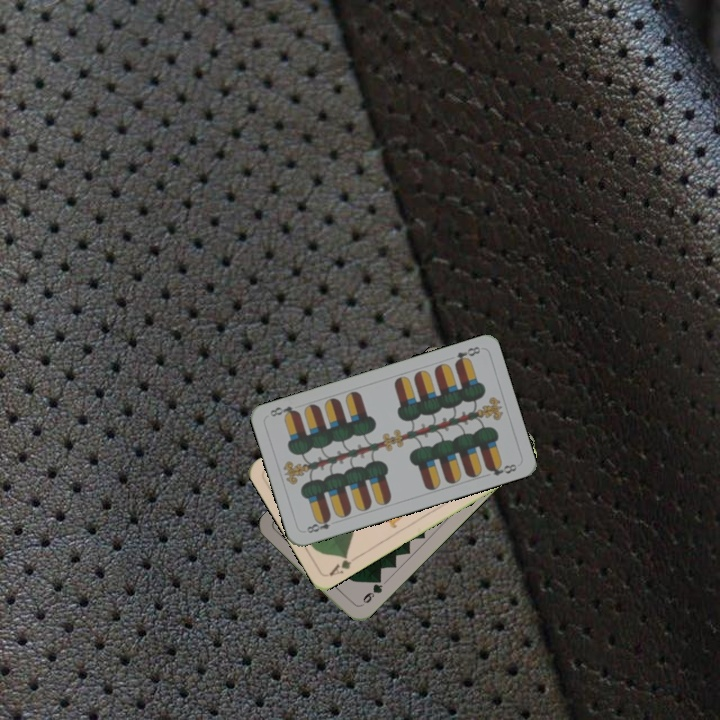E8: (450, 342, 483, 368), (303, 513, 334, 536)
G9: (356, 573, 386, 609)
GA: (325, 551, 354, 578)
